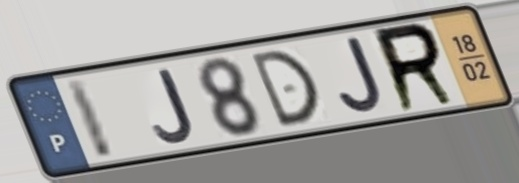8: (193, 54, 265, 140)
D: (246, 46, 325, 131)
I: (60, 74, 119, 163)
J: (337, 34, 387, 117), (150, 66, 197, 145)
R: (370, 19, 463, 118)
